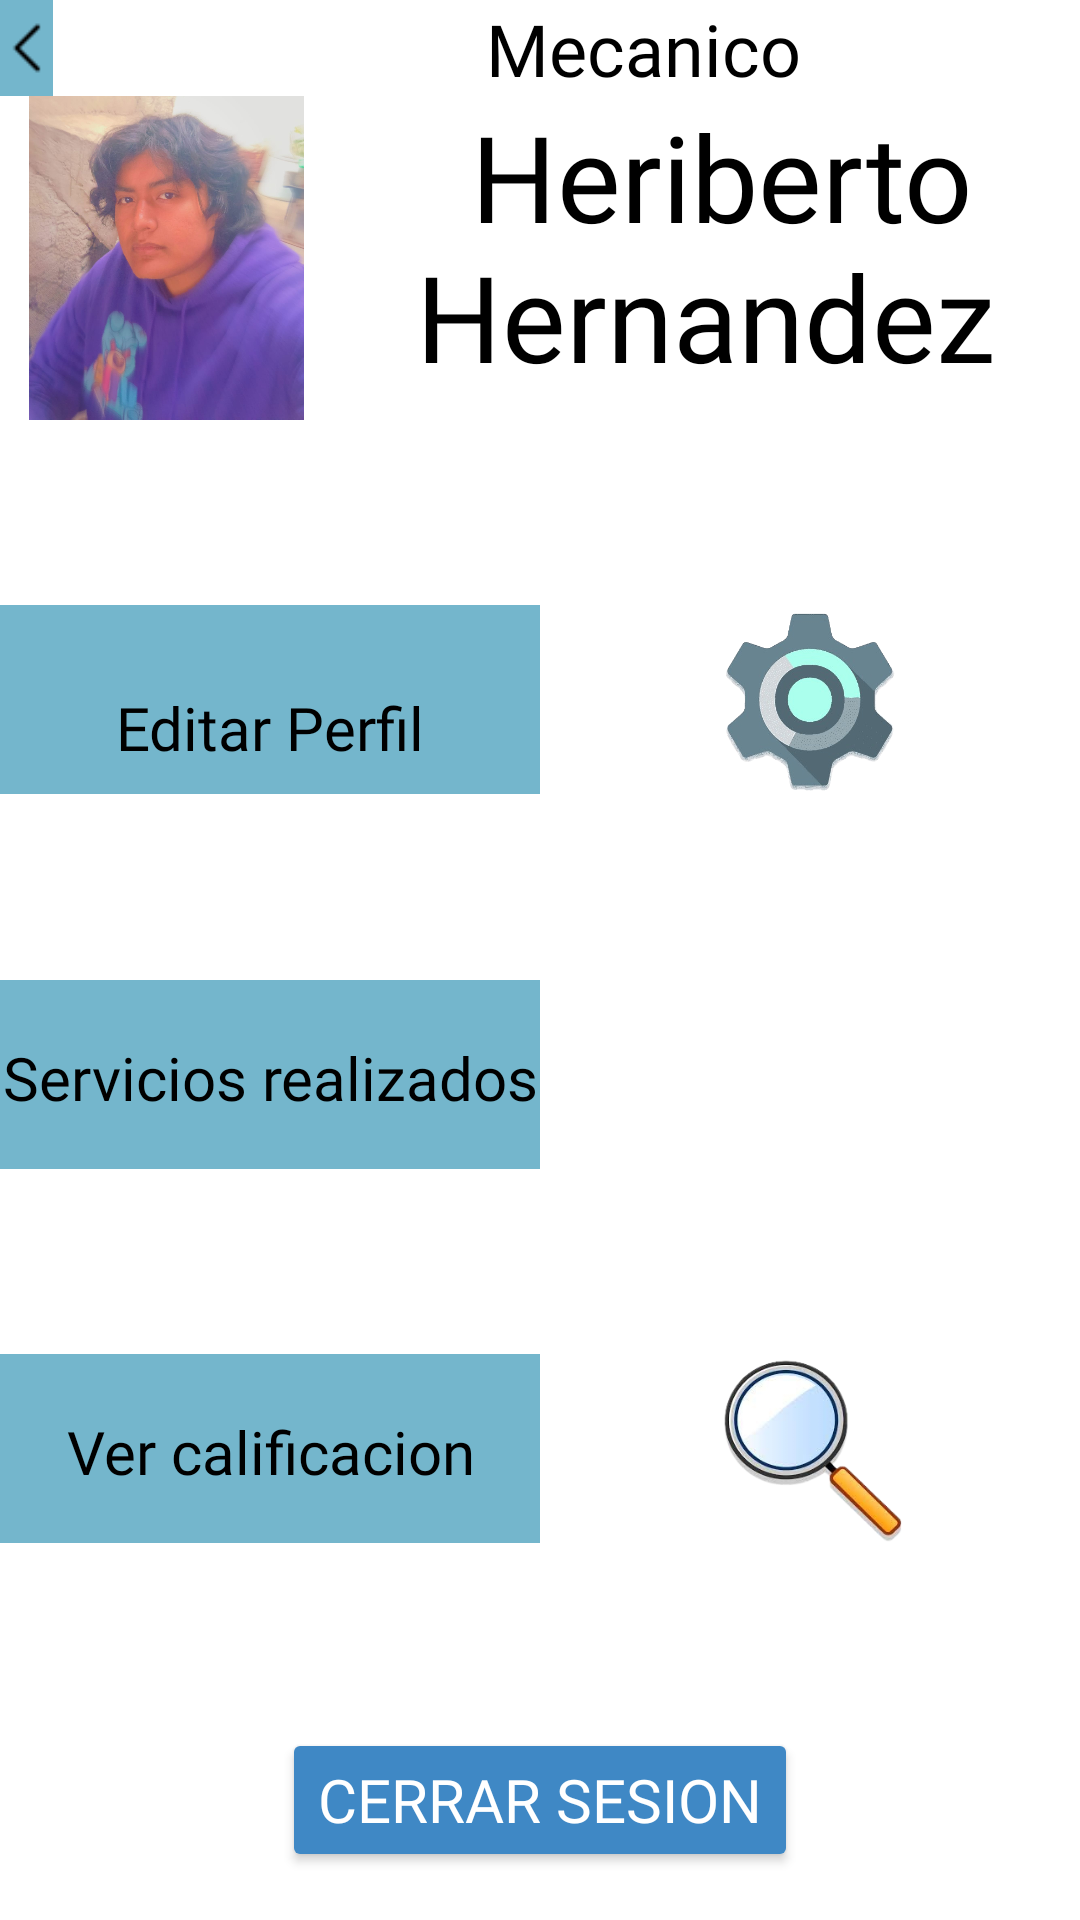

Where to tap for icons on this 1080*1920 app screen, as [x,y]:
config: [810,702]
flecha: [26,48]
ftoperfilmec: [166,258]
lupar: [812,1451]
